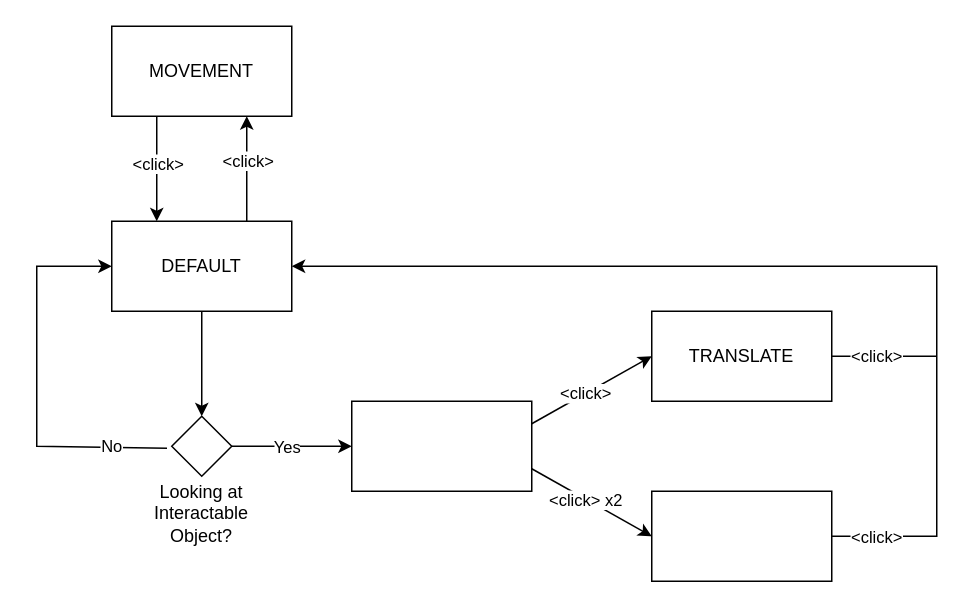
Some shapes in this 975 by 608 pixel diagram are drawn without their labels. The shapes that lost their labels are listed below. From the top down, each one's box as (x1, y1, x2, y2) in pixels, then its label:
(350, 400, 532, 491): CAN_INTERACT
(650, 490, 832, 581): ROTATE
